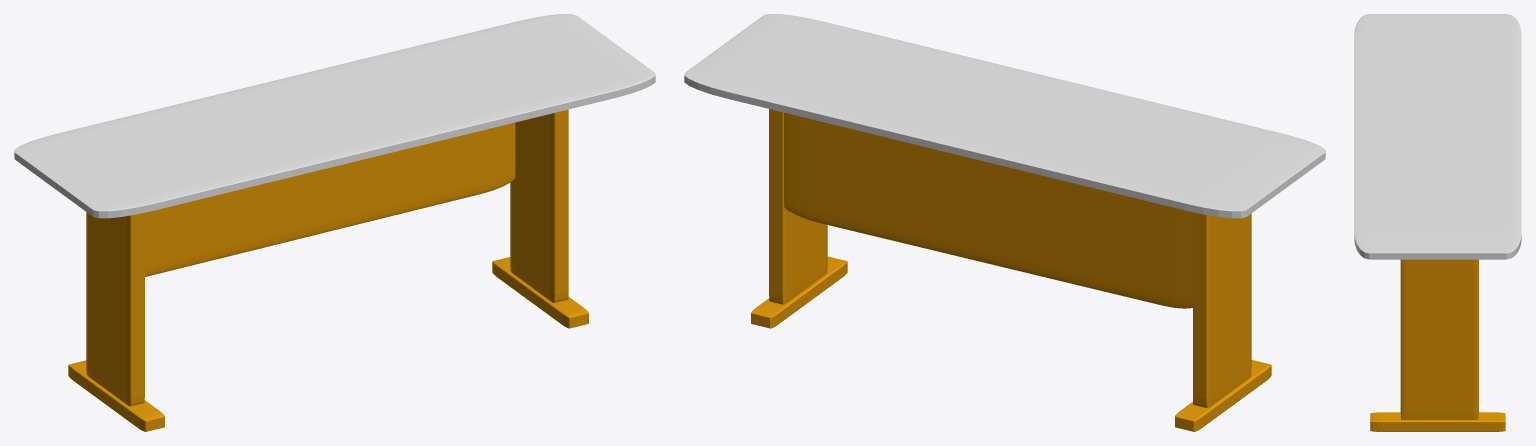
Rendered from Nueva mesa.fbx.
3 views of the same model, side by side, from view 1: azimuth 30°, elevation 25°; view 2: azimuth 150°, elevation 25°; view 3: azimuth 270°, elevation 25° (orthographic). The views are drawn at different scales.
Visible parts, largest first — view 1: Cube.004, Cube.005, Cube.002, Cube.001, Cube, Cube.003; view 2: Cube.004, Cube.005, Cube.002, Cube.001, Cube, Cube.003; view 3: Cube.004, Cube.001, Cube.
Part boxes in pixels (x1,y1,x2,y2): Cube.004: (14,14,655,218); Cube.005: (145,122,515,276); Cube.002: (86,212,144,406); Cube.001: (510,109,568,302); Cube: (492,257,588,328); Cube.003: (68,360,164,431); Cube.004: (684,14,1325,218); Cube.005: (784,112,1192,308); Cube.002: (1193,212,1251,407); Cube.001: (769,109,827,304); Cube: (751,256,847,328); Cube.003: (1175,360,1271,431); Cube.004: (1354,14,1521,259); Cube.001: (1400,259,1478,419); Cube: (1370,412,1505,431).
Bounding box in the file's own units: 34.69 × 13.99 × 10.26.
